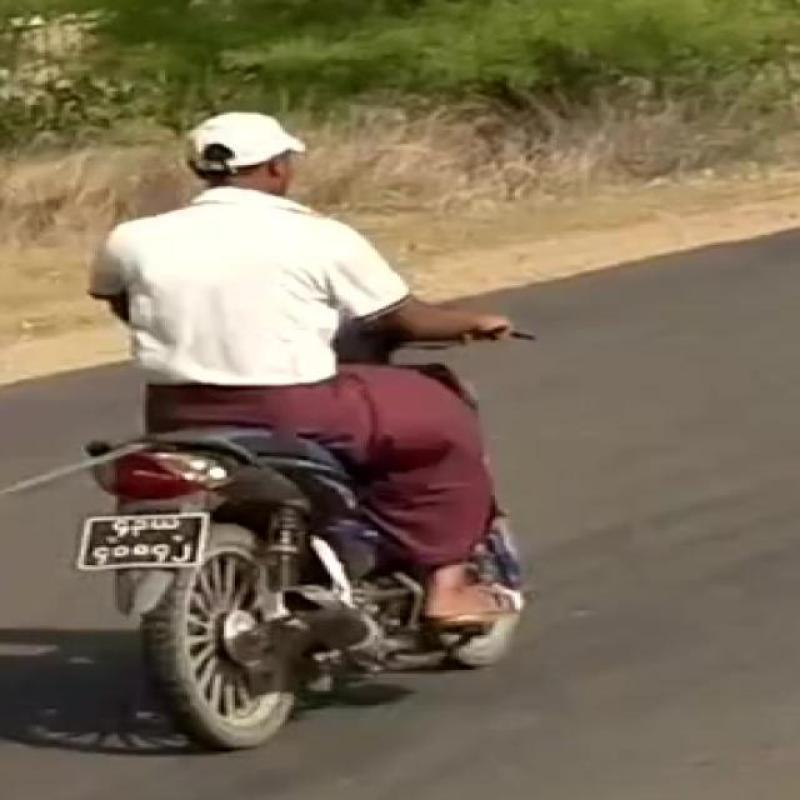nohelmet: (164, 95, 336, 219)
